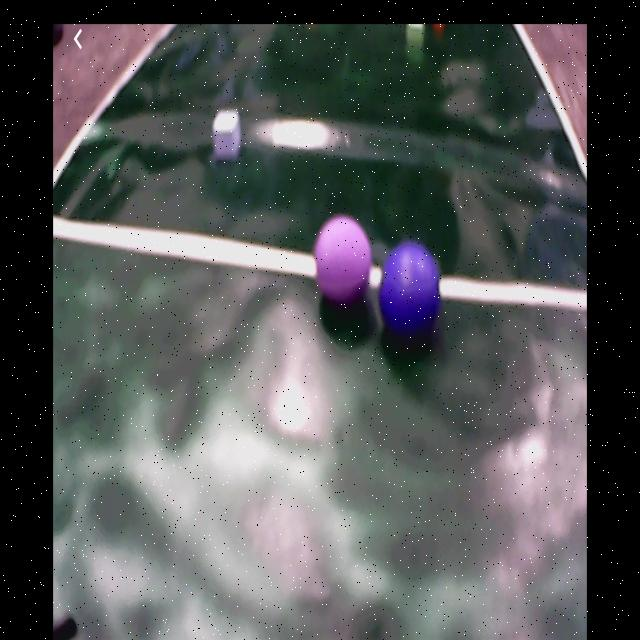ball: (380, 241, 440, 333), (315, 216, 373, 300)
